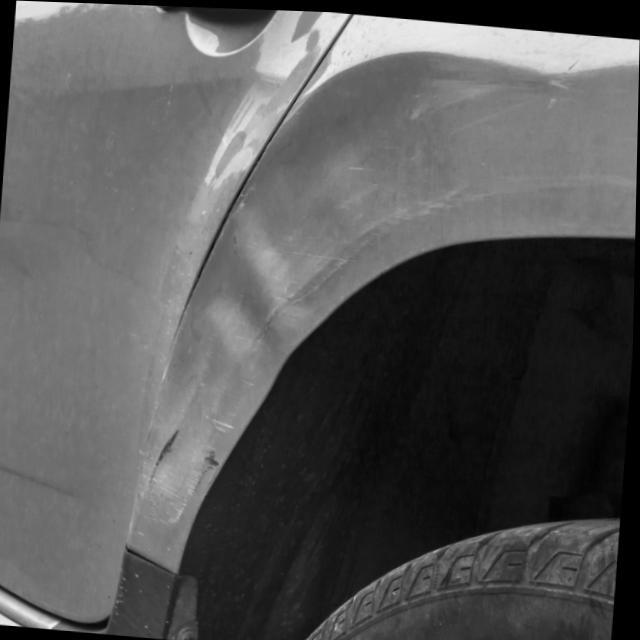dent: (141, 51, 579, 497)
